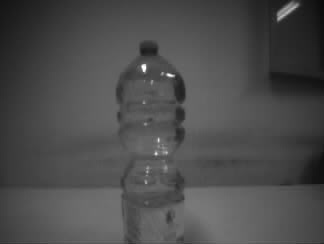Bottle: (116, 40, 188, 242)
